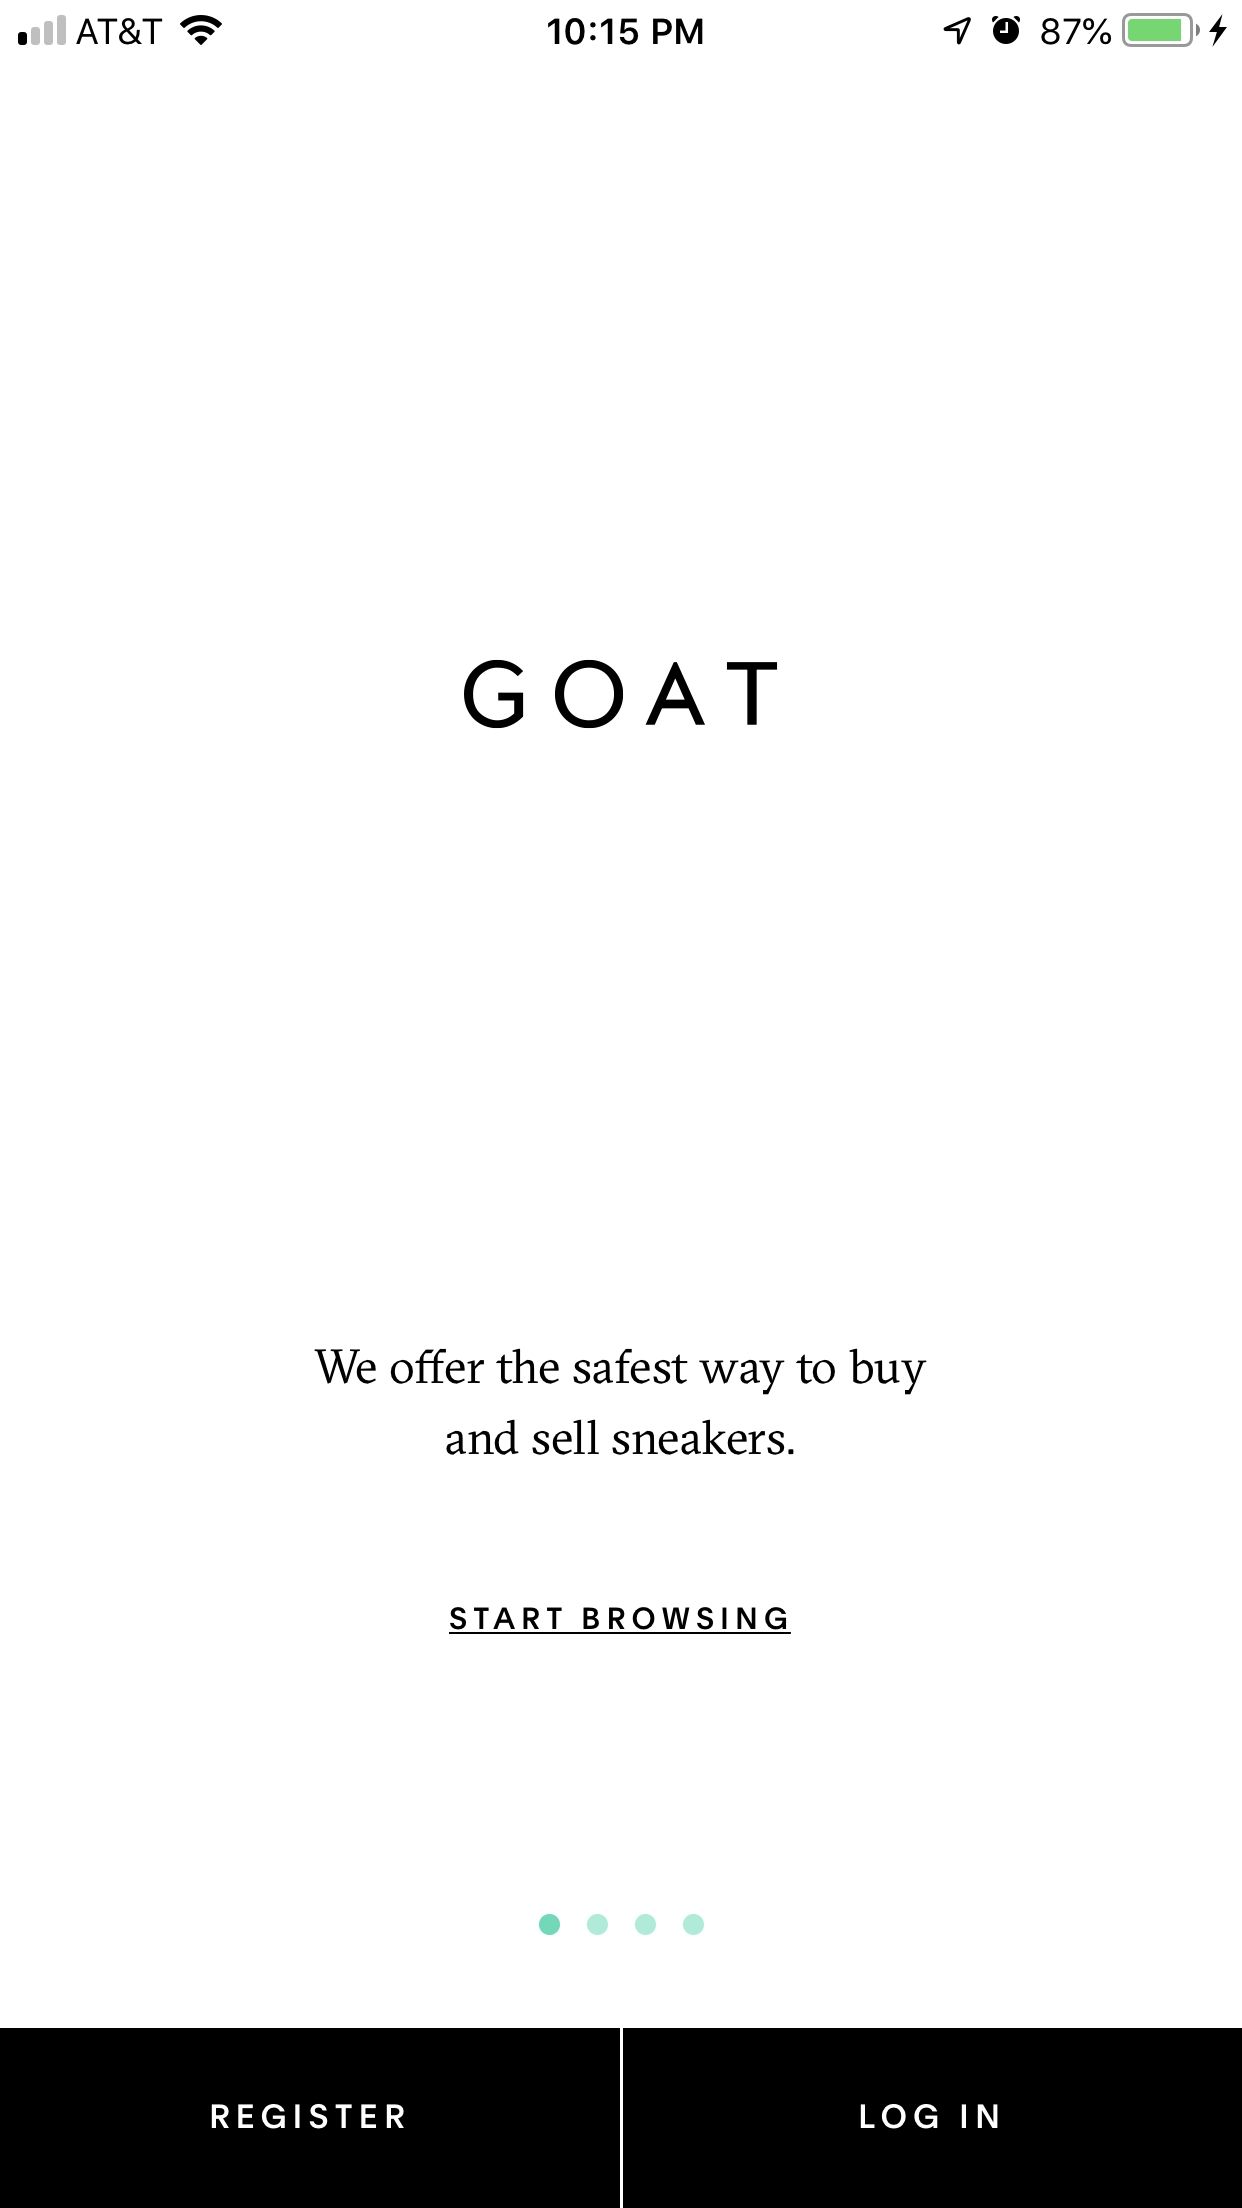PageIndicator: (538, 1912, 705, 1937)
Text: (314, 1347, 928, 1456), (463, 660, 778, 729), (449, 1606, 792, 1635)
TextButton: (2, 2028, 622, 2208), (623, 2028, 1242, 2208)
UpperTaskBar: (2, 2, 1242, 50)
